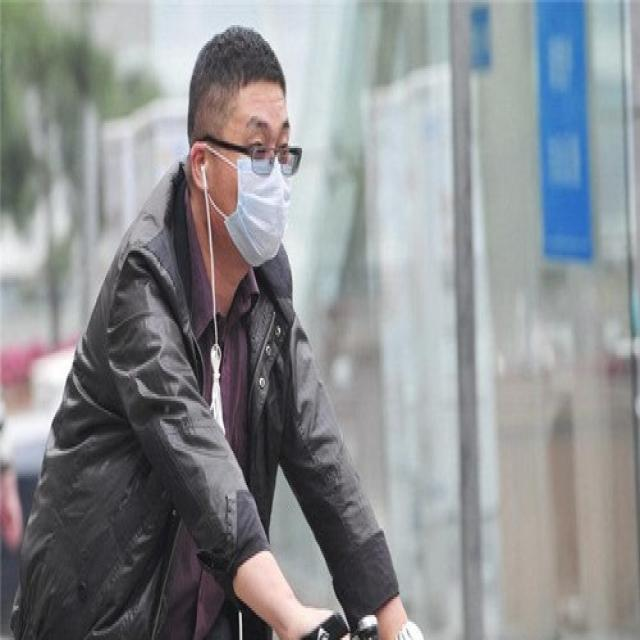mask: (220, 80, 298, 262)
